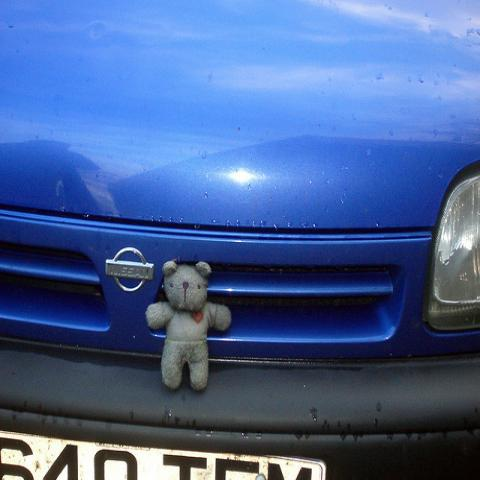car: (1, 1, 479, 474)
